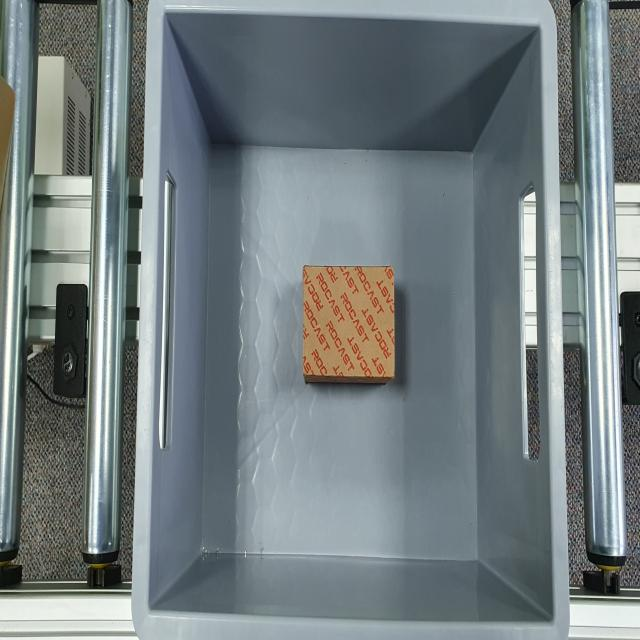box: (302, 262, 398, 386)
